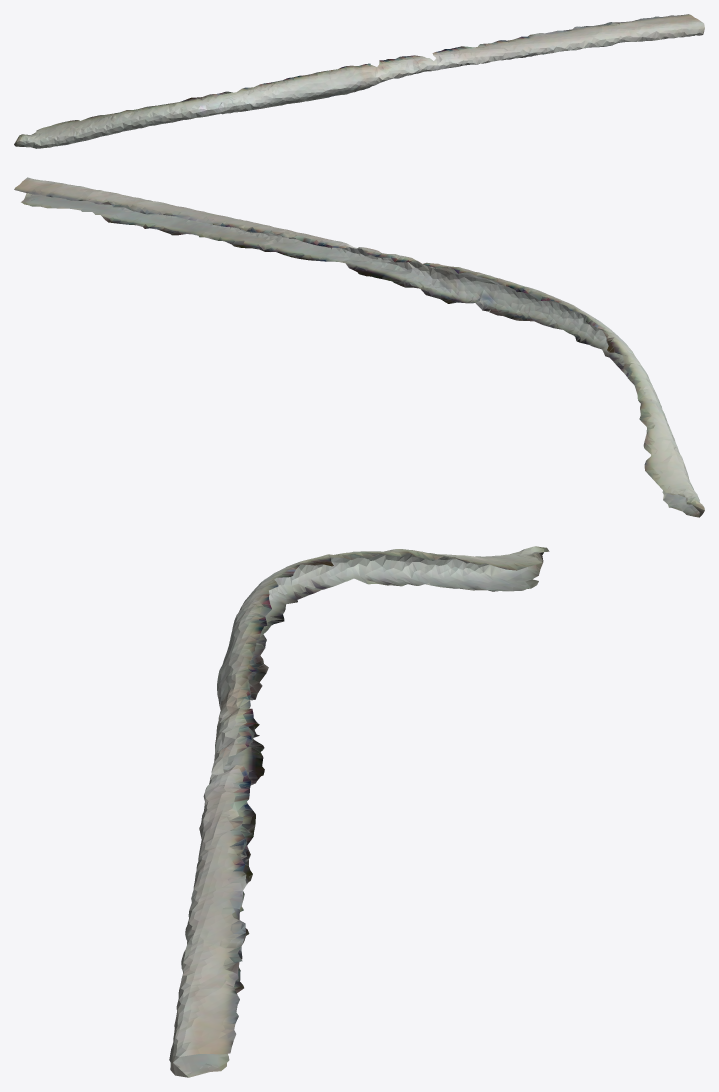
3 views of the same model, one above another, from view 1: azimuth 30°, elevation 25°; view 2: azimuth 150°, elevation 25°; view 3: azimuth 270°, elevation 25° (orthographic). The views are drawn at different scales.
Parts seen in each view (by area): view 1: link1; view 2: link1; view 3: link1.
Part boxes in pixels (<box>): link1: <box>14,14,704,148</box>; link1: <box>14,177,704,517</box>; link1: <box>169,546,549,1077</box>.
Size of the model in its own units: 0.1202 by 0.0139 by 0.033.
Materials: 1 (1 with a texture image).
